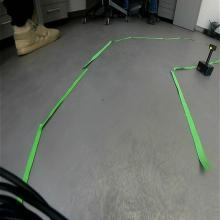green: (209, 43, 217, 51)
